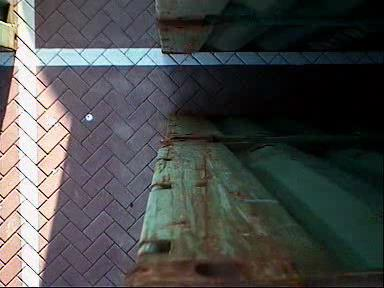groundmarker_2: (187, 126, 292, 268)
